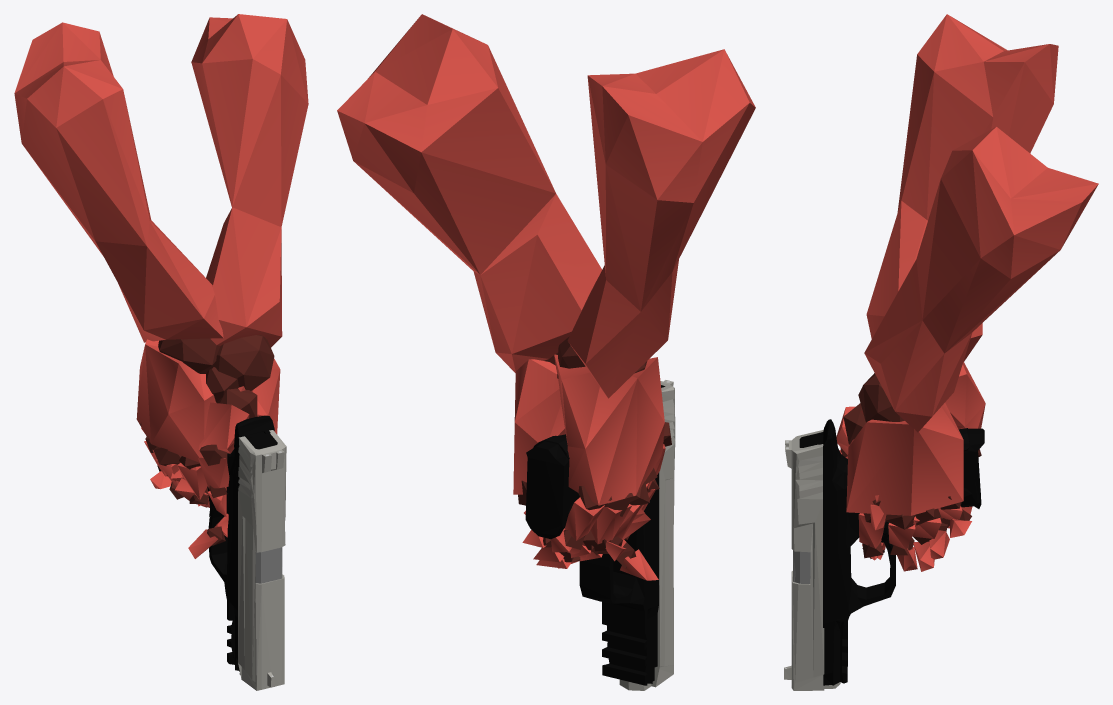
The model's file is M&P9shoot3LowP_000202.obj.
3 renders of one model, left to right at view 1: azimuth 30°, elevation 25°; view 2: azimuth 150°, elevation 25°; view 3: azimuth 270°, elevation 25°, orthographic. The views are drawn at different scales.
Parts seen in each view (by area): view 1: Beta_Surface.001_Beta_Surface.002, slide_平面.002, Beta_Joints.001_Beta_Joints.002, triger_平面.001; view 2: Beta_Surface.001_Beta_Surface.002, triger_平面.001, slide_平面.002, Beta_Joints.001_Beta_Joints.002; view 3: Beta_Surface.001_Beta_Surface.002, triger_平面.001, slide_平面.002, Beta_Joints.001_Beta_Joints.002.
Part boxes in pixels (x1=…): Beta_Surface.001_Beta_Surface.002: x1=14, y1=14, x2=308, y2=558; slide_平面.002: x1=238, y1=430, x2=286, y2=690; Beta_Joints.001_Beta_Joints.002: x1=140, y1=335, x2=274, y2=545; triger_平面.001: x1=207, y1=415, x2=282, y2=671; Beta_Surface.001_Beta_Surface.002: x1=337, y1=14, x2=755, y2=580; triger_平面.001: x1=525, y1=434, x2=658, y2=685; slide_平面.002: x1=619, y1=380, x2=675, y2=690; Beta_Joints.001_Beta_Joints.002: x1=518, y1=336, x2=671, y2=568; Beta_Surface.001_Beta_Surface.002: x1=836, y1=14, x2=1098, y2=571; triger_平面.001: x1=793, y1=419, x2=984, y2=685; slide_平面.002: x1=784, y1=430, x2=840, y2=690; Beta_Joints.001_Beta_Joints.002: x1=840, y1=373, x2=981, y2=558.
Bounding box in the file's own units: 42.47 × 80.1 × 37.71.
